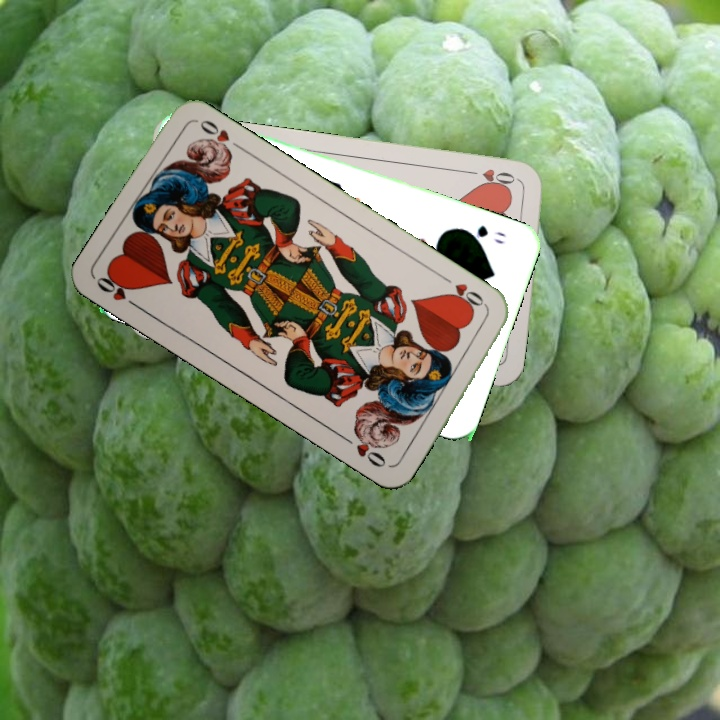GO: (457, 221, 508, 247)
HO: (92, 269, 145, 313), (439, 272, 491, 315), (464, 164, 523, 192)
